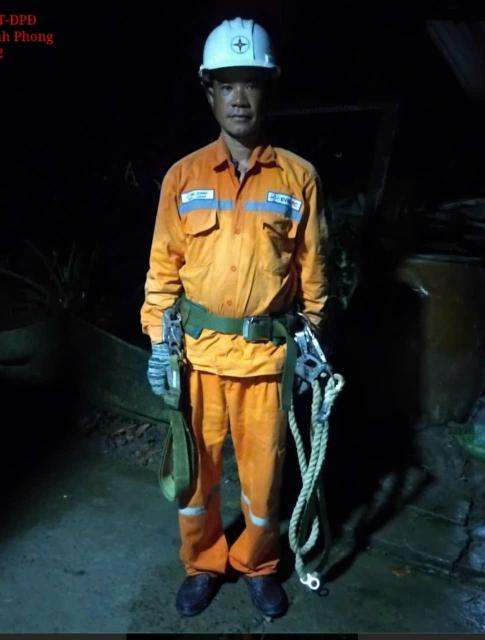gloves: (145, 340, 189, 404)
harness: (186, 289, 310, 361)
helmet: (188, 11, 297, 103)
shoes: (223, 548, 317, 638), (156, 562, 230, 628)
